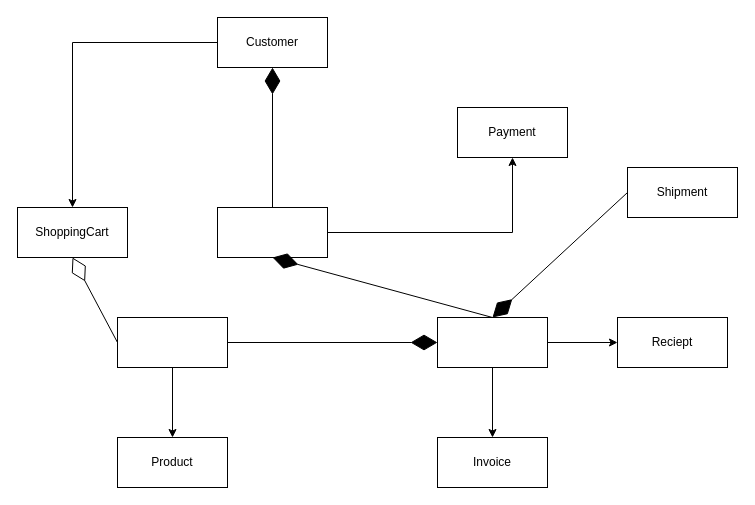
This 755x505 diagram has some shape labels left out. The centre of each missing label's shape, as x and y in pixels:
"Account" belongs at pixel 272 232.
"Order" belongs at pixel 492 342.
"OrderItem" belongs at pixel 172 342.
